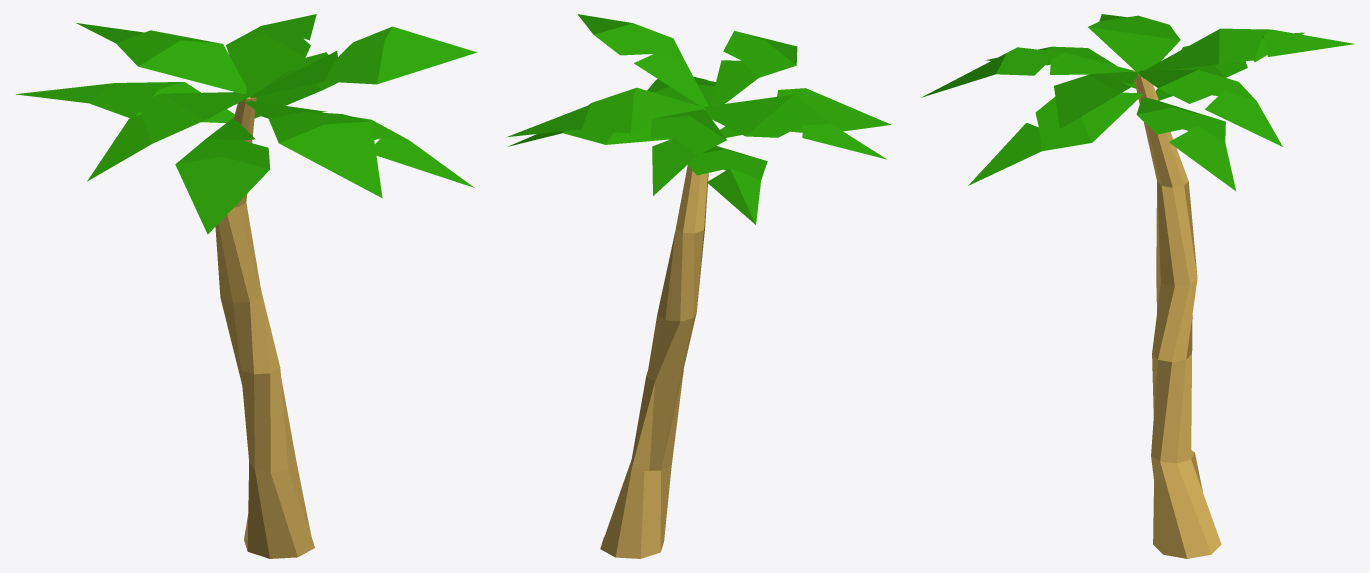
The model's file is palmtree.fbx.
3 views of the same model, side by side, from view 1: azimuth 30°, elevation 25°; view 2: azimuth 150°, elevation 25°; view 3: azimuth 270°, elevation 25° (orthographic). The views are drawn at different scales.
Parts seen in each view (by area): view 1: 圓柱體; view 2: 圓柱體; view 3: 圓柱體.
Boxes of the visible parts, x1,y1,x2,y2 form: 圓柱體: [16, 14, 477, 558]; 圓柱體: [506, 14, 891, 558]; 圓柱體: [921, 14, 1354, 558].
Size of the model in its own units: 634 by 874 by 697.
